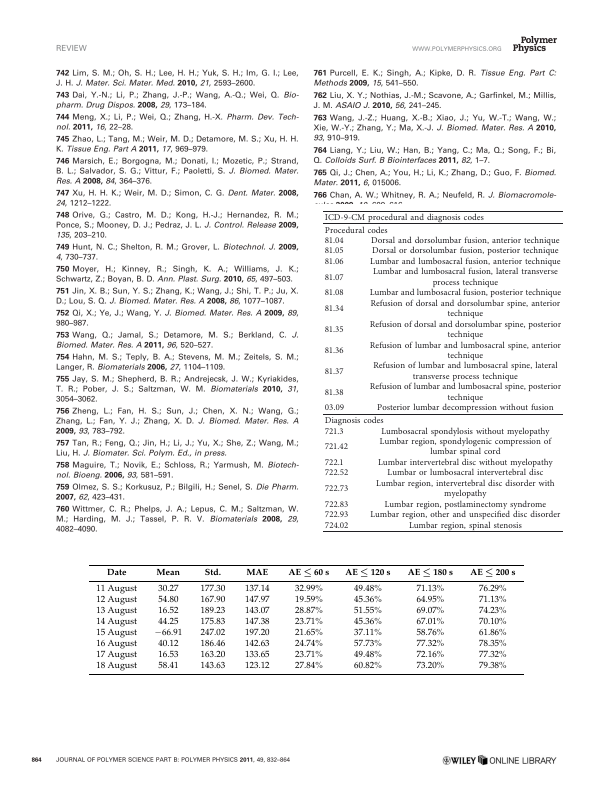borderless: (322, 209, 563, 531), (88, 563, 524, 674)
cell: (368, 382, 562, 404), (372, 267, 558, 289), (368, 320, 562, 341), (368, 341, 562, 362), (369, 299, 561, 320), (372, 362, 558, 383), (375, 479, 555, 500), (378, 437, 552, 458), (368, 288, 562, 299), (369, 257, 561, 268), (369, 510, 561, 521), (370, 236, 560, 247), (376, 403, 554, 414), (377, 458, 553, 469), (371, 247, 559, 257), (323, 213, 484, 224), (386, 468, 544, 479), (380, 427, 550, 437), (383, 500, 547, 510), (408, 521, 522, 531), (323, 416, 384, 427), (323, 226, 388, 236), (344, 568, 391, 578), (406, 568, 453, 578), (469, 568, 516, 578), (95, 584, 137, 595), (95, 595, 137, 606), (95, 606, 137, 617), (95, 617, 137, 628), (95, 628, 137, 639), (95, 639, 137, 650), (95, 650, 137, 661), (95, 661, 137, 672), (287, 568, 330, 578), (352, 584, 382, 595), (415, 584, 445, 595), (477, 584, 507, 595), (352, 595, 382, 606), (415, 595, 445, 606), (477, 595, 507, 606), (352, 606, 382, 617), (415, 606, 445, 617), (477, 606, 507, 617), (352, 617, 382, 628), (415, 617, 445, 628), (477, 617, 507, 628), (153, 628, 183, 639), (352, 628, 382, 639), (415, 628, 445, 639), (477, 628, 507, 639), (352, 639, 382, 650), (415, 639, 445, 650), (477, 639, 507, 650), (352, 650, 382, 661), (415, 650, 445, 661), (477, 650, 507, 661), (352, 661, 382, 672), (415, 661, 445, 672), (477, 661, 507, 672), (294, 584, 323, 595), (294, 595, 323, 606), (294, 606, 323, 617), (294, 617, 323, 628), (294, 628, 323, 639), (294, 639, 323, 650), (294, 650, 323, 661), (294, 661, 323, 672), (199, 584, 226, 595), (243, 584, 270, 595), (199, 595, 226, 606), (243, 595, 270, 606), (199, 606, 226, 617), (243, 606, 270, 617), (199, 617, 226, 628), (243, 617, 270, 628), (199, 628, 226, 639), (243, 628, 270, 639), (199, 639, 226, 650), (243, 639, 270, 650), (199, 650, 226, 661), (243, 650, 270, 661), (199, 661, 226, 672), (243, 661, 270, 672), (323, 442, 349, 453), (323, 468, 349, 479), (323, 484, 349, 495), (323, 510, 349, 521), (323, 500, 349, 510), (323, 521, 349, 531), (157, 584, 179, 595), (157, 595, 179, 606), (157, 606, 179, 617), (157, 617, 179, 628), (157, 639, 179, 650), (157, 650, 179, 661), (157, 661, 179, 672), (323, 403, 345, 414), (323, 236, 344, 247), (323, 257, 344, 268), (323, 288, 344, 299), (323, 304, 344, 315), (323, 325, 344, 336), (323, 346, 344, 357), (323, 458, 344, 469), (323, 247, 344, 257), (323, 273, 344, 283), (323, 367, 344, 377), (323, 388, 344, 398), (323, 427, 344, 437), (155, 568, 181, 576), (245, 568, 268, 576), (105, 568, 127, 576), (203, 568, 221, 576)
